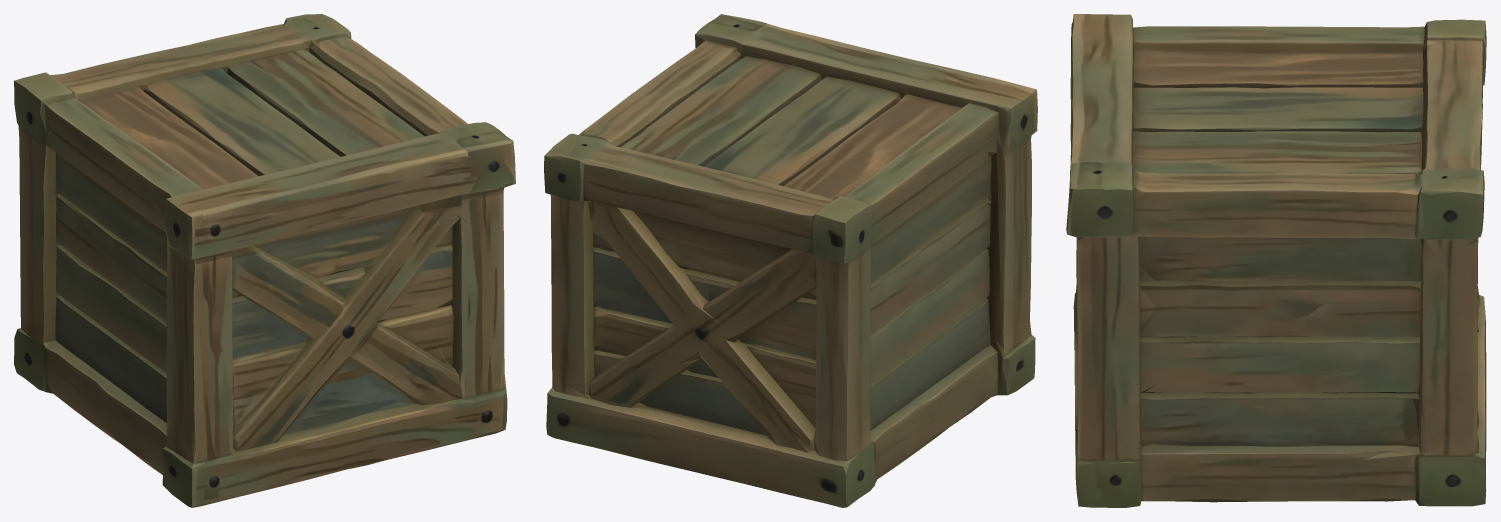
File: base_basic_pbr.glb
The picture shows the model from 3 angles, left to right: view 1: azimuth 30°, elevation 25°; view 2: azimuth 150°, elevation 25°; view 3: azimuth 270°, elevation 25°; orthographic projection. The views are drawn at different scales.
Visible parts, largest first — view 1: Mesh; view 2: Mesh; view 3: Mesh.
Boxes of the visible parts, x1,y1,x2,y2 form: Mesh: (14, 14, 515, 507); Mesh: (544, 14, 1037, 507); Mesh: (1066, 14, 1486, 507).
Size of the model in its own units: 1.86 by 1.62 by 1.89.
1 material, 1 textured.
